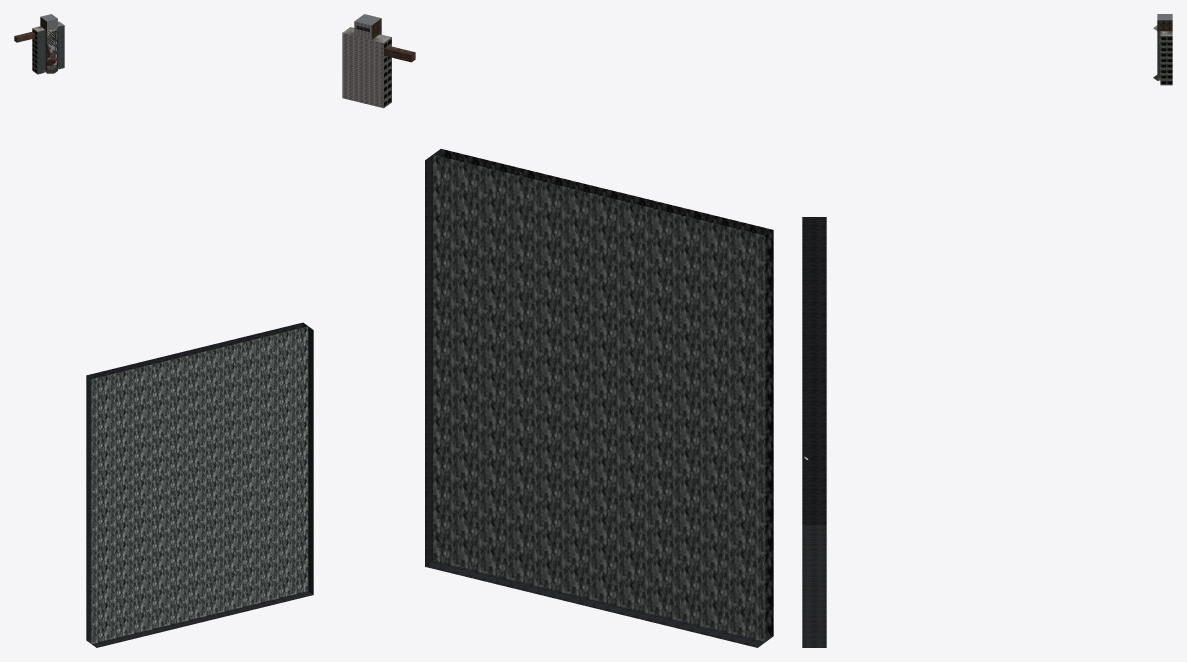
The model's file is EOL_Siege.obj.
3 views of the same model, side by side, from view 1: azimuth 30°, elevation 25°; view 2: azimuth 150°, elevation 25°; view 3: azimuth 270°, elevation 25° (orthographic). The views are drawn at different scales.
Parts seen in each view (by area): view 1: GenFluid_cloud1, eol_Black, eol_EMarble1; view 2: GenFluid_cloud1, Skybox_Effects_NCld, eol_Black, eol_inlaid7; view 3: eol_Black, eol_earch.
Boxes of the visible parts, <box> form: GenFluid_cloud1: <box>91,326,308,643</box>; eol_Black: <box>86,322,313,647</box>; eol_EMarble1: <box>37,25,64,74</box>; GenFluid_cloud1: <box>433,154,765,641</box>; Skybox_Effects_NCld: <box>441,149,773,635</box>; eol_Black: <box>425,149,773,647</box>; eol_inlaid7: <box>342,21,383,108</box>; eol_Black: <box>802,217,826,647</box>; eol_earch: <box>1160,36,1172,85</box>.
Size of the model in its own units: 117 by 252 by 149.
